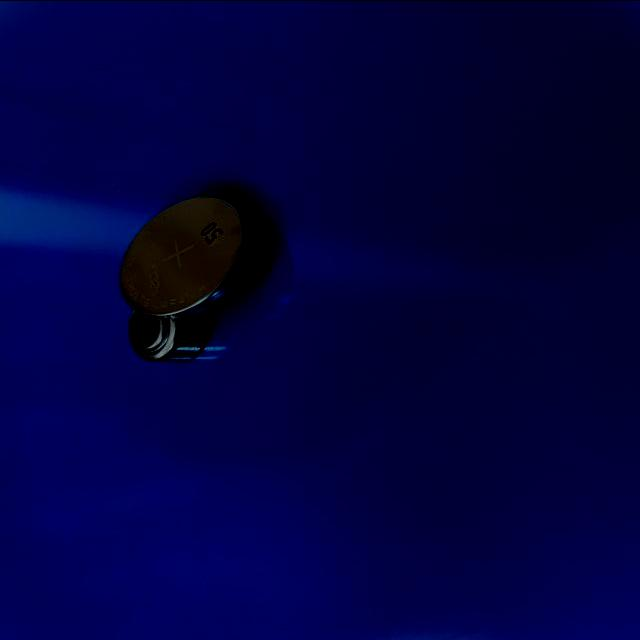COIN: (117, 194, 259, 317), (132, 300, 210, 362)
